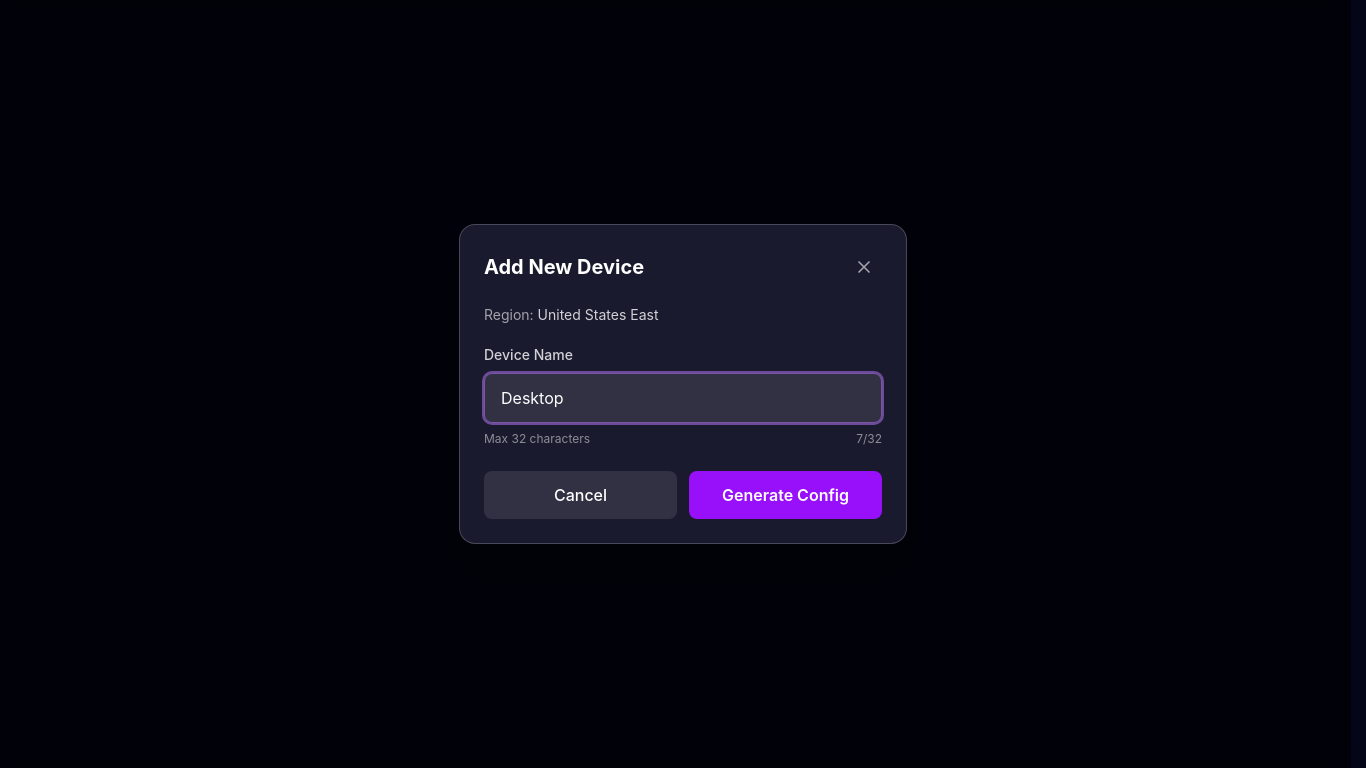
Test: DeviceConfigModal › device naming › should show error for empty device name
The image size is (1366, 768).
Step 1. Clear the field labelled "Device Name" → (683, 398), box top-left (484, 373), bottom-right (882, 423)
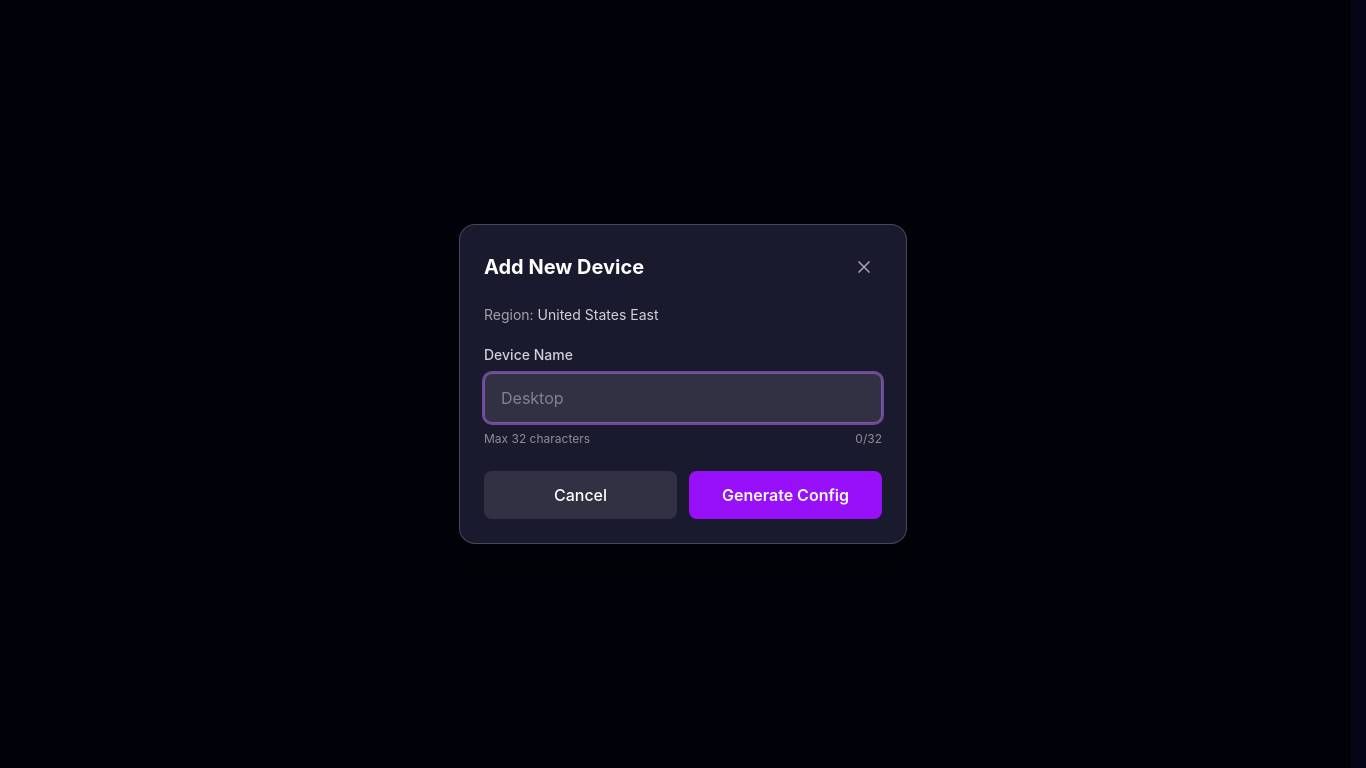
Step 2. Click the button "Generate Config" → (786, 495), box top-left (689, 471), bottom-right (882, 519)
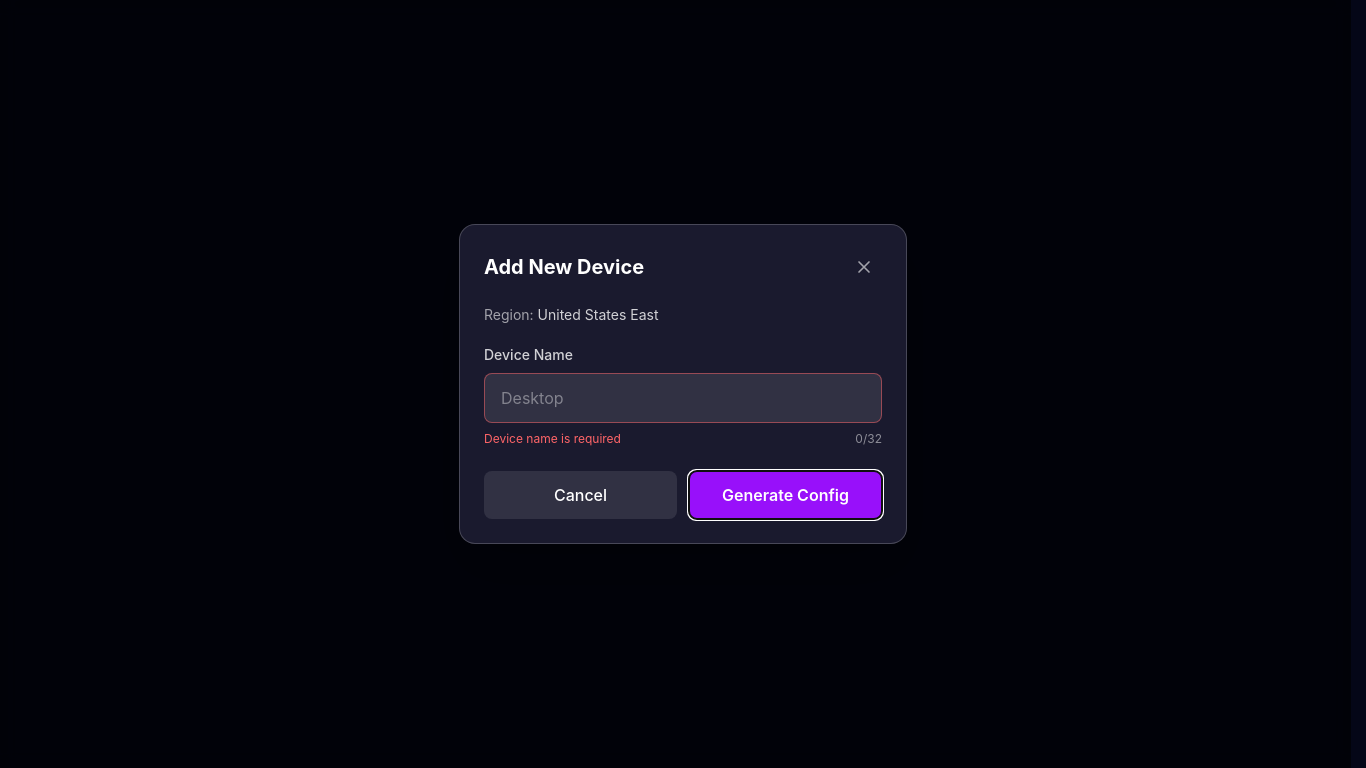
Check: the text "Device name is required" is shown, box top-left (484, 431), bottom-right (621, 447)
